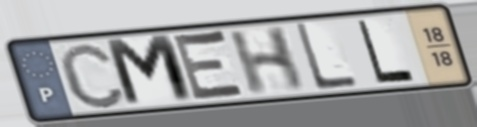C: (54, 40, 130, 111)
E: (170, 28, 251, 104)
H: (225, 24, 308, 98)
L: (291, 21, 361, 94), (354, 18, 418, 86)
M: (100, 32, 200, 110)
